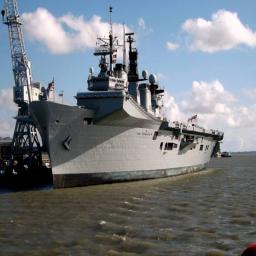Portanaves: (24, 2, 227, 197)
